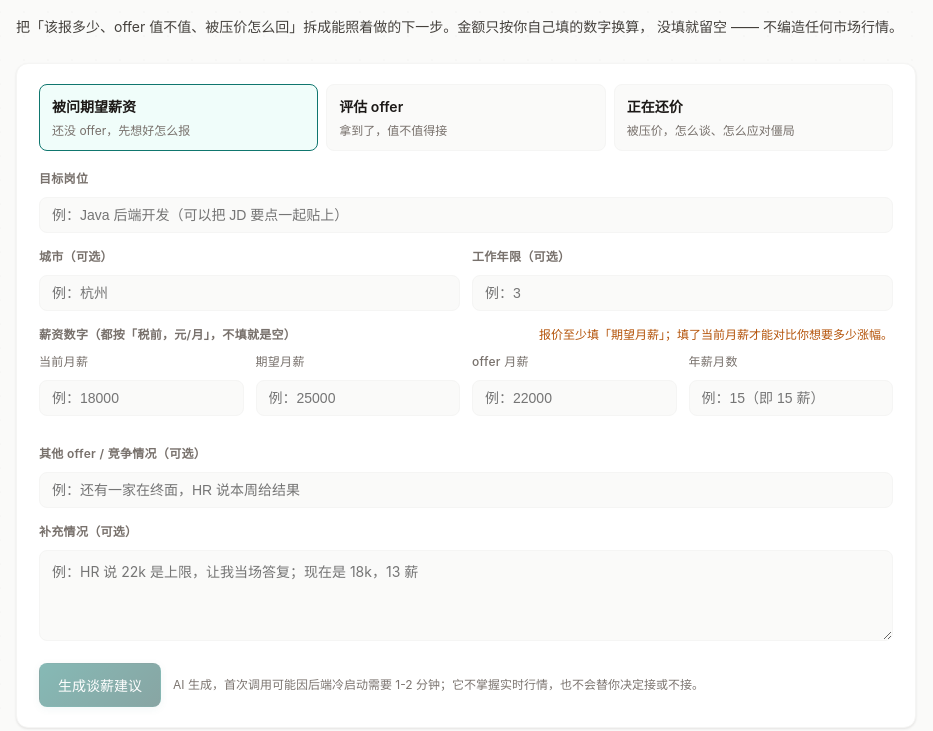
Test: SalaryView —— 谈薪助手 › 生成成功：提交数字并渲染结论、金额、风险、话术与动作
Type " Java 后端 " into the field with id "salary-job" at point(466, 215), box 39,197 -> 893,233
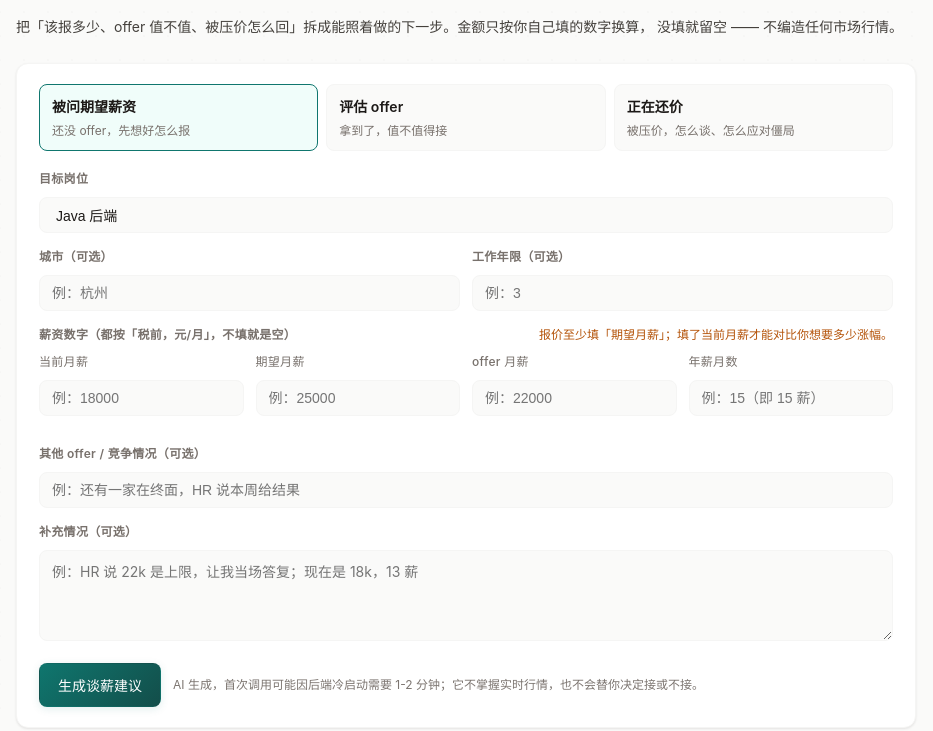
Type "22000" into the field with id "salary-offer" at point(574, 398), box 472,380 -> 676,416
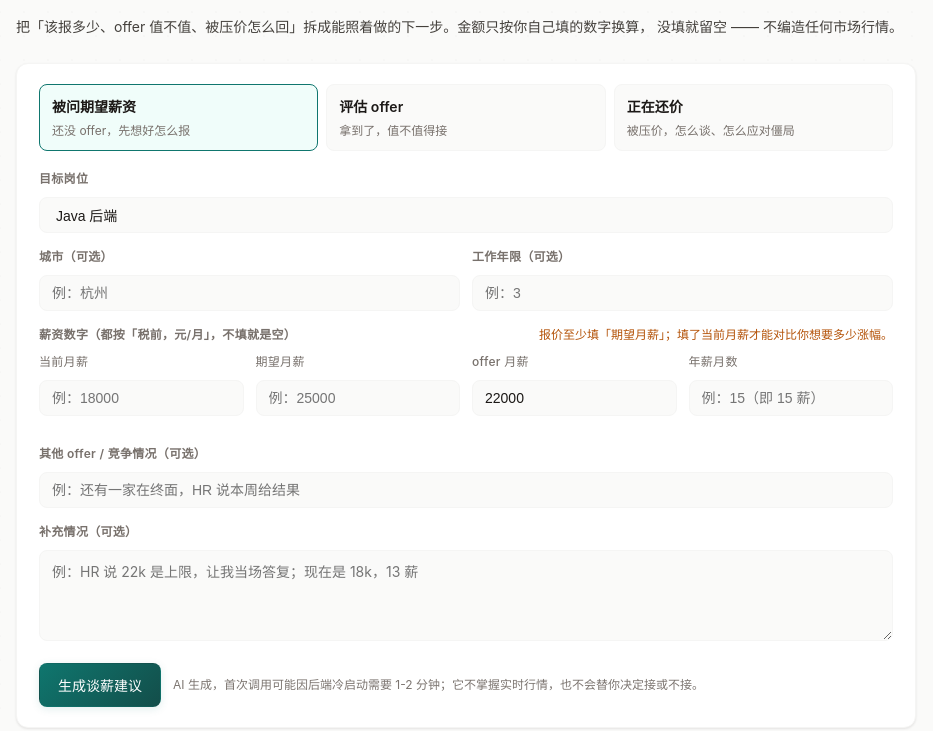
Type "15" into the field with id "salary-months" at point(791, 398), box 688,380 -> 893,416
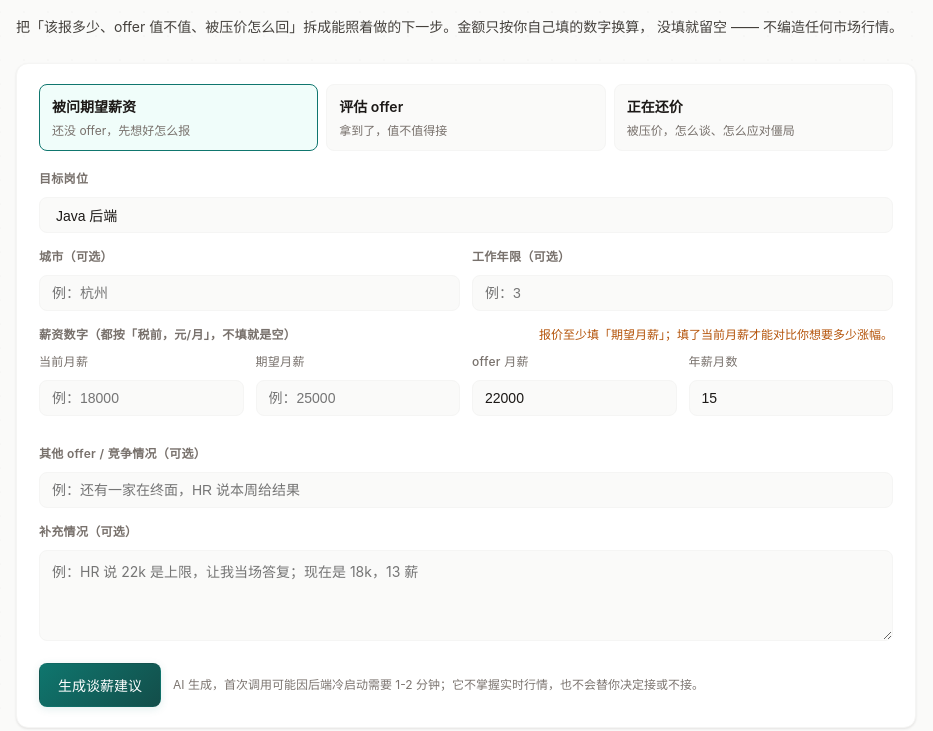
Type "25000" into the field with id "salary-expected" at point(358, 398), box 256,380 -> 460,416
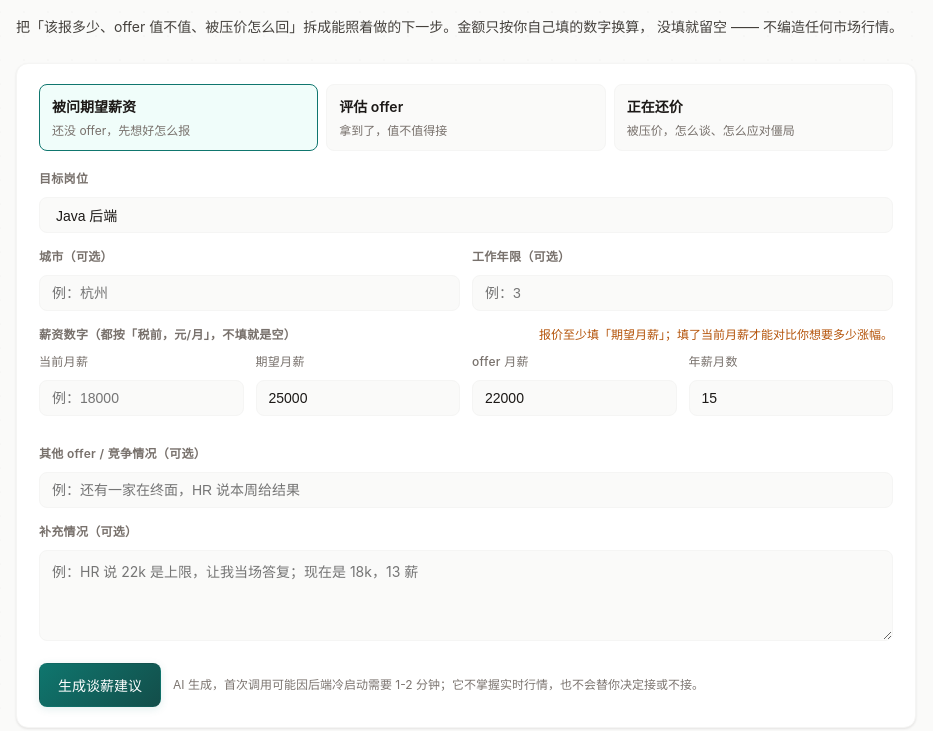
Click the button "生成谈薪建议" at point(100, 685), box 39,663 -> 161,707
(page scrolled)
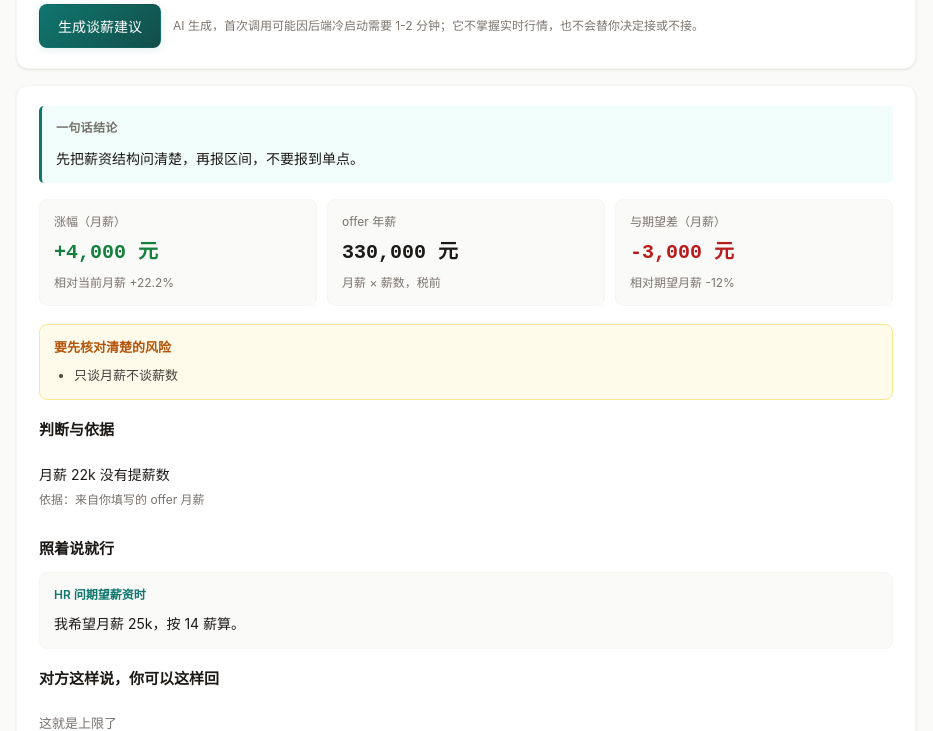
Expected: the text with class "headline-text" shows "先把薪资结构问清楚", 56,150 -> 364,167
Expected: the elements with class "num-value" read "+4,000 元", "330,000 元", "-3,000 元", in this order, 54,241 -> 158,264; 342,241 -> 458,264; 630,241 -> 734,264
Expected: the text "相对当前月薪 +22.2%" is shown, 54,275 -> 174,290
